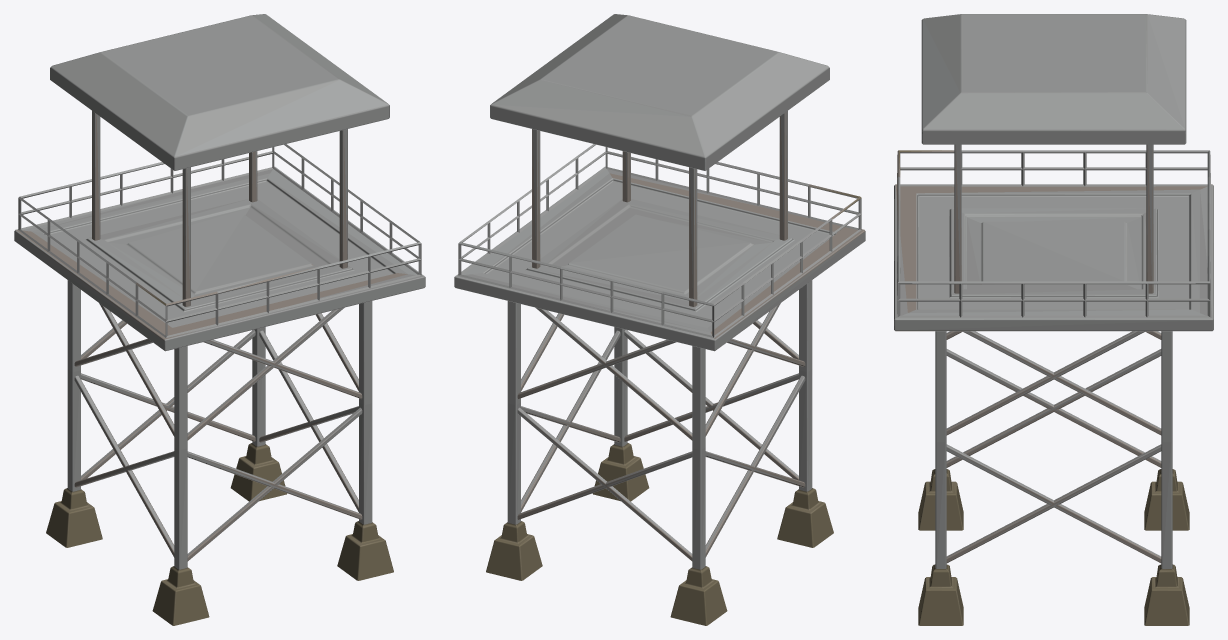
File: base-watchtower.glb
The picture shows the model from 3 angles, left to right: view 1: azimuth 30°, elevation 25°; view 2: azimuth 150°, elevation 25°; view 3: azimuth 270°, elevation 25°; orthographic projection. The views are drawn at different scales.
Parts seen in each view (by area): view 1: body; view 2: body; view 3: body.
Part boxes in pixels (bbox=[...]): body: bbox=[14, 14, 425, 625]; body: bbox=[454, 14, 865, 625]; body: bbox=[894, 14, 1213, 625].
Size of the model in its own units: 3.4 by 6.05 by 3.4.
